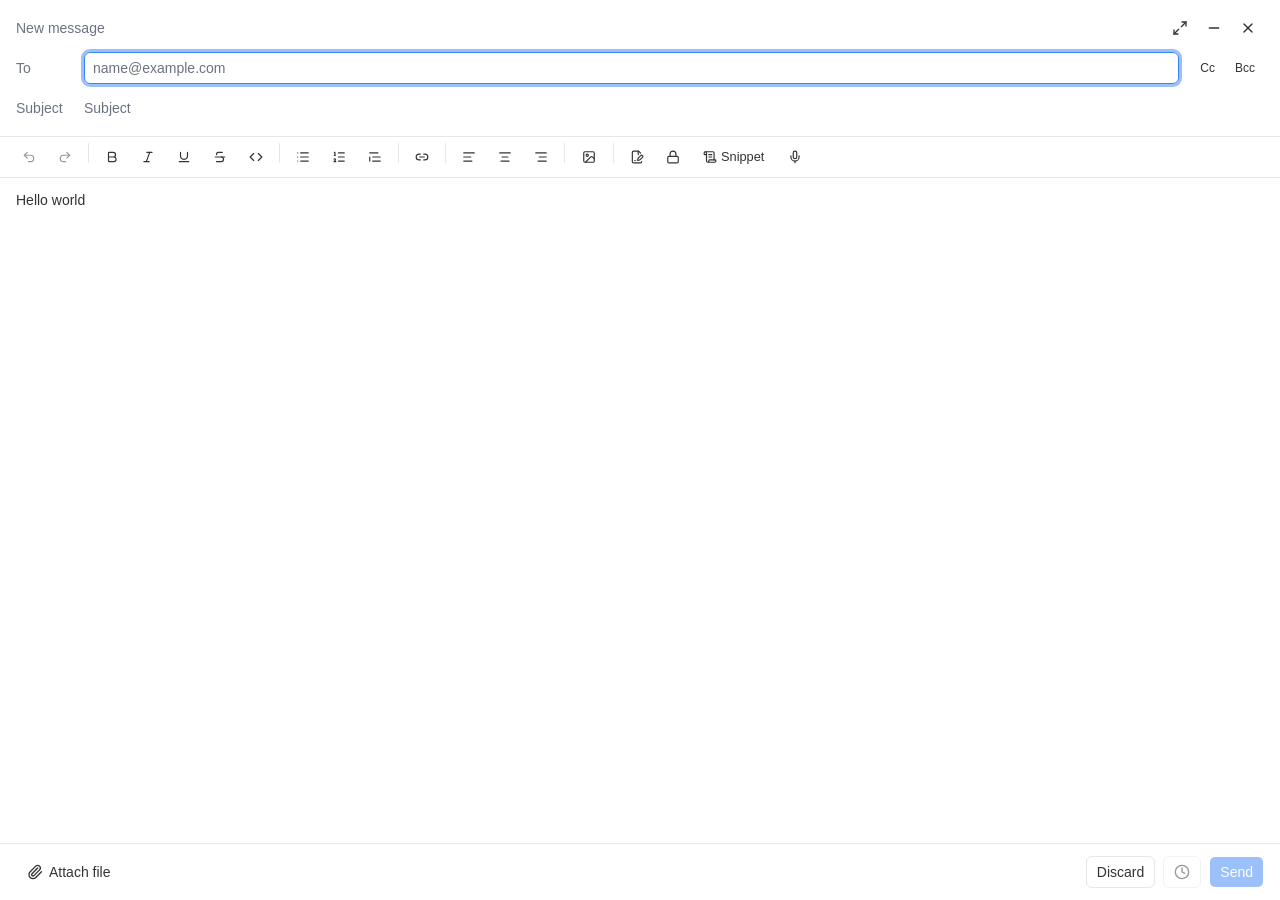
Test case: dictation happy path › inserts the transcript at the cursor through the editor pipeline
The image size is (1280, 900).
Check: the field named "Message body" is shown, box [16, 192, 85, 208]
# Stop → transcribe → insert.
Click the button with test id "dictation-button" at (795, 157), box [777, 143, 813, 171]
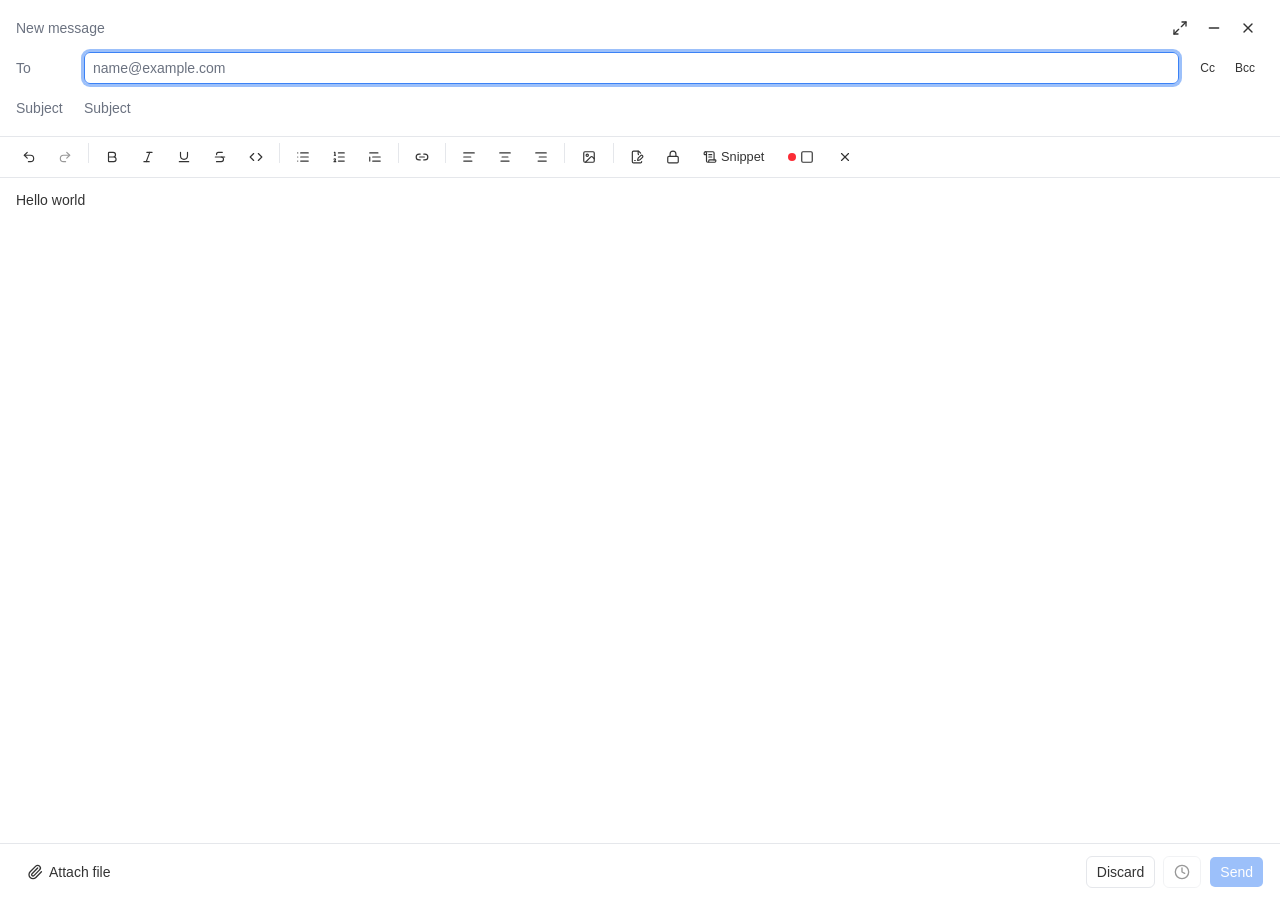
Check: the element with test id "dictation-recording-dot" is shown, box [788, 153, 796, 161]
Click the button named "Stop dictation" at (801, 157), box [777, 143, 825, 171]
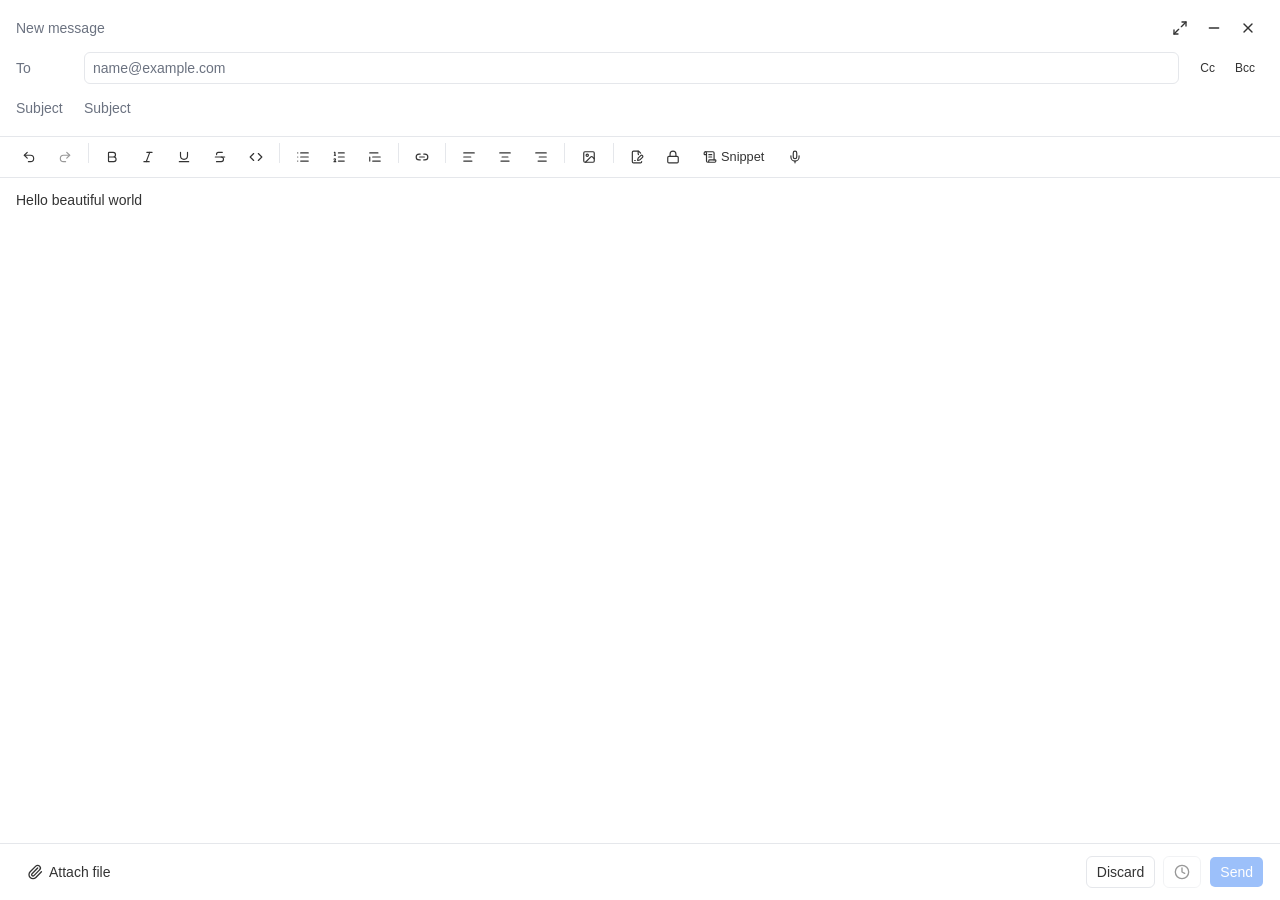
Check: the text box labelled "Hello beautiful world" is shown, box [16, 192, 142, 208]
